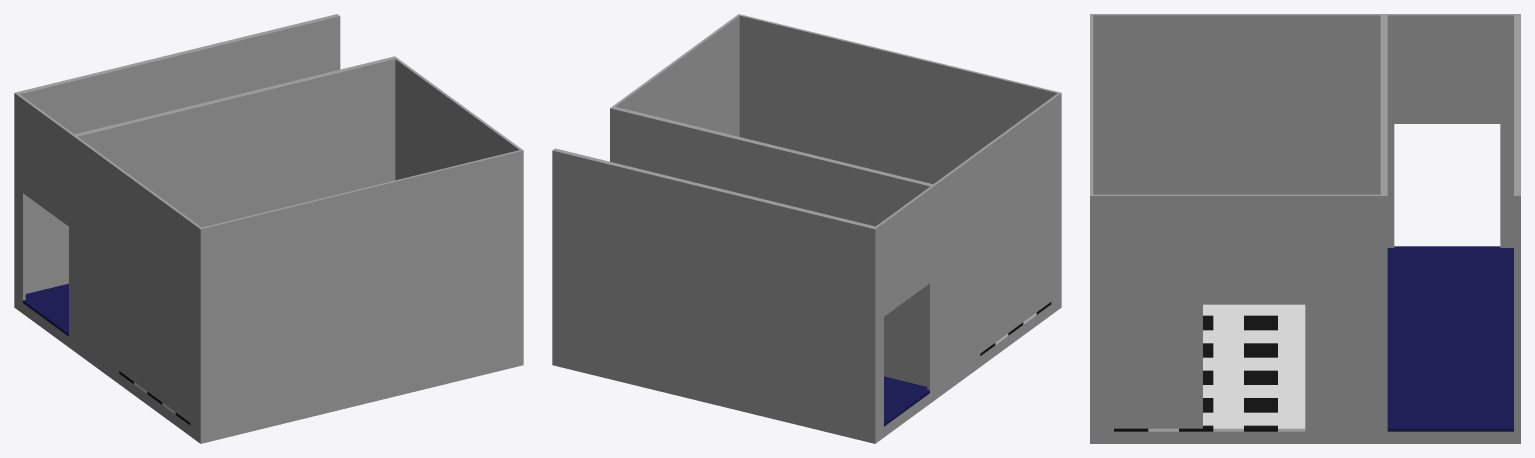
File: 4x2 first (1)-2.obj
3 renders of one model, left to right at view 1: azimuth 30°, elevation 25°; view 2: azimuth 150°, elevation 25°; view 3: azimuth 270°, elevation 25°, orthographic. The views are drawn at different scales.
Parts seen in each view (by area): view 1: 4x2 first (1)-2; view 2: 4x2 first (1)-2; view 3: 4x2 first (1)-2.
Part boxes in pixels (x1,y1,x2,y2): 4x2 first (1)-2: (14, 14, 523, 443); 4x2 first (1)-2: (552, 14, 1061, 443); 4x2 first (1)-2: (1090, 14, 1520, 443).
Size of the model in its own units: 126 by 80 by 126.
Materials: 1 (1 with a texture image).
